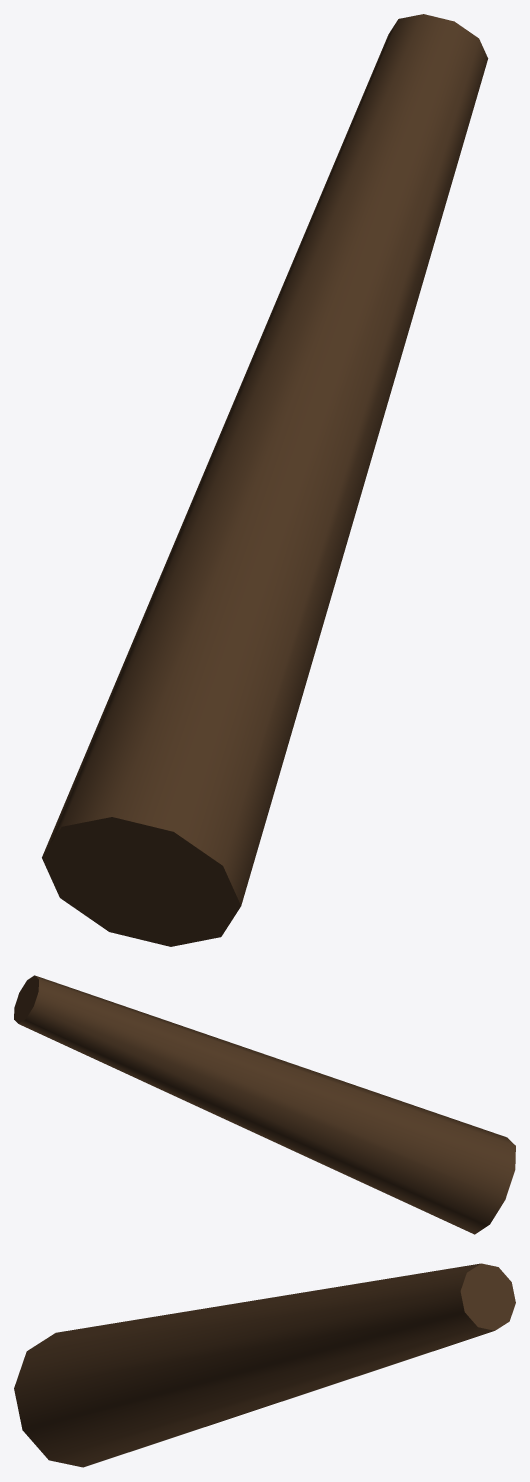
Rendered from root-southeast.glb.
3 renders of one model, top to bottom at view 1: azimuth 30°, elevation 25°; view 2: azimuth 150°, elevation 25°; view 3: azimuth 270°, elevation 25°, orthographic. The views are drawn at different scales.
Visible parts, largest first — view 1: Root southeast; view 2: Root southeast; view 3: Root southeast.
Part boxes in pixels (x1=…): Root southeast: x1=42, y1=14, x2=488, y2=946; Root southeast: x1=14, y1=975, x2=515, y2=1234; Root southeast: x1=14, y1=1263, x2=515, y2=1467.
Size of the model in its own units: 22.34 by 17.4 by 20.67.
